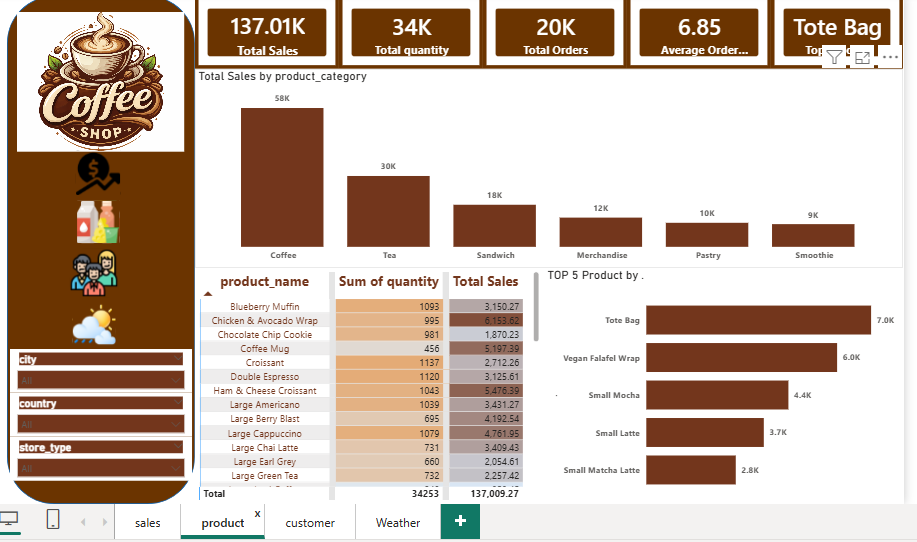

What the dashboard file says about the page in this screenshot:
{"tool":"powerbi","page":{"name":"product","canvas":[1280,720],"ordinal":1},"visuals":[{"type":"shape","box":[9.9,0,266.5,720],"z":0},{"type":"image","box":[24.1,22.7,236.7,198.4],"z":1000},{"type":"cardVisual","fields":{"Data":["clean_data.Total Sales"]},"box":[276.4,0,204.1,103.5],"z":2000},{"type":"cardVisual","fields":{"Data":["clean_data.Total quantity"]},"box":[480.5,0,204.1,103.5],"z":3000},{"type":"cardVisual","fields":{"Data":["clean_data.Total Orders"]},"box":[684.6,0,204.1,103.5],"z":4000},{"type":"cardVisual","fields":{"Data":["clean_data.Average Order Value"]},"box":[888.7,0,204.1,103.5],"z":5000},{"type":"cardVisual","fields":{"Data":["clean_data.Top Product"]},"box":[1092.8,0,187.1,103.5],"z":6000},{"type":"tableEx","fields":{"Values":["clean_data.product_name","Sum(clean_data.quantity)","clean_data.Total Sales"]},"box":[276.4,385.5,493.2,334.5],"z":7000},{"type":"clusteredColumnChart","fields":{"Y":["clean_data.Total Sales"],"Category":["clean_data.product_category"]},"box":[276.4,103.5,1003.5,282],"z":8000},{"type":"barChart","fields":{"Y":["clean_data.Total Sales"],"Category":["clean_data.product_name"]},"box":[771,385.5,508.8,334.5],"z":9000},{"type":"actionButton","box":[49.6,215.4,178.6,70.9],"z":10000},{"type":"actionButton","box":[82.2,286.3,113.4,68],"z":11000},{"type":"actionButton","box":[95,354.3,100.6,76.5],"z":12000},{"type":"actionButton","box":[70.9,430.9,124.7,69.4],"z":13000},{"type":"slicer","fields":{"Values":["clean_data.city"]},"box":[14.2,500.3,258,62.4],"z":14000},{"type":"slicer","fields":{"Values":["clean_data.country"]},"box":[14.2,562.7,258,62.4],"z":15000},{"type":"slicer","fields":{"Values":["clean_data.store_type"]},"box":[14.2,625,258,62.4],"z":16000}]}

Visuals, with their boxes on the page's 1280x720 design canvas (x1, y1, x2, y2). These are canvas units, not pixel positions in the 917x542 screenshot, which may show the page scaled, cropped or inside an application window:
shape: box(10, 0, 276, 720)
image: box(24, 23, 261, 221)
cardVisual - clean_data.Total Sales: box(276, 0, 480, 104)
cardVisual - clean_data.Total quantity: box(480, 0, 685, 104)
cardVisual - clean_data.Total Orders: box(685, 0, 889, 104)
cardVisual - clean_data.Average Order Value: box(889, 0, 1093, 104)
cardVisual - clean_data.Top Product: box(1093, 0, 1280, 104)
tableEx - clean_data.product_name x Sum(clean_data.quantity): box(276, 386, 770, 720)
clusteredColumnChart - clean_data.Total Sales x clean_data.product_category: box(276, 104, 1280, 386)
barChart - clean_data.Total Sales x clean_data.product_name: box(771, 386, 1280, 720)
actionButton: box(50, 215, 228, 286)
actionButton: box(82, 286, 196, 354)
actionButton: box(95, 354, 196, 431)
actionButton: box(71, 431, 196, 500)
slicer - clean_data.city: box(14, 500, 272, 563)
slicer - clean_data.country: box(14, 563, 272, 625)
slicer - clean_data.store_type: box(14, 625, 272, 687)
